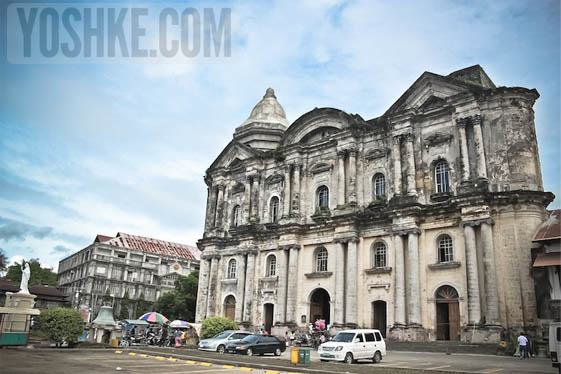taal_basilica_church_taal_batangas: (189, 58, 548, 349)
